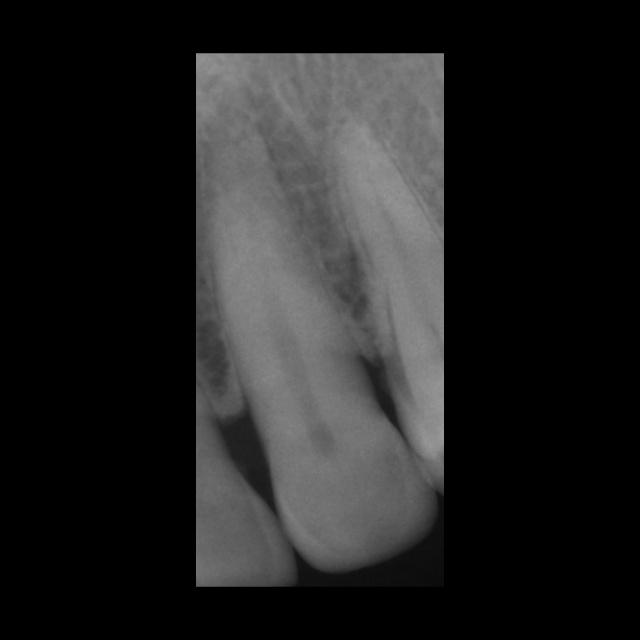tooth: (202, 67, 445, 573)
